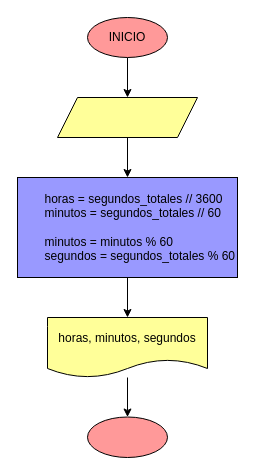
Image size: 255x475. Some labels were removed from this diagram. Here are the shapes that lost their labels. From the top down, the box of each, then its label:
(56, 96, 198, 138): segundos_totales
(86, 416, 168, 458): FIN
